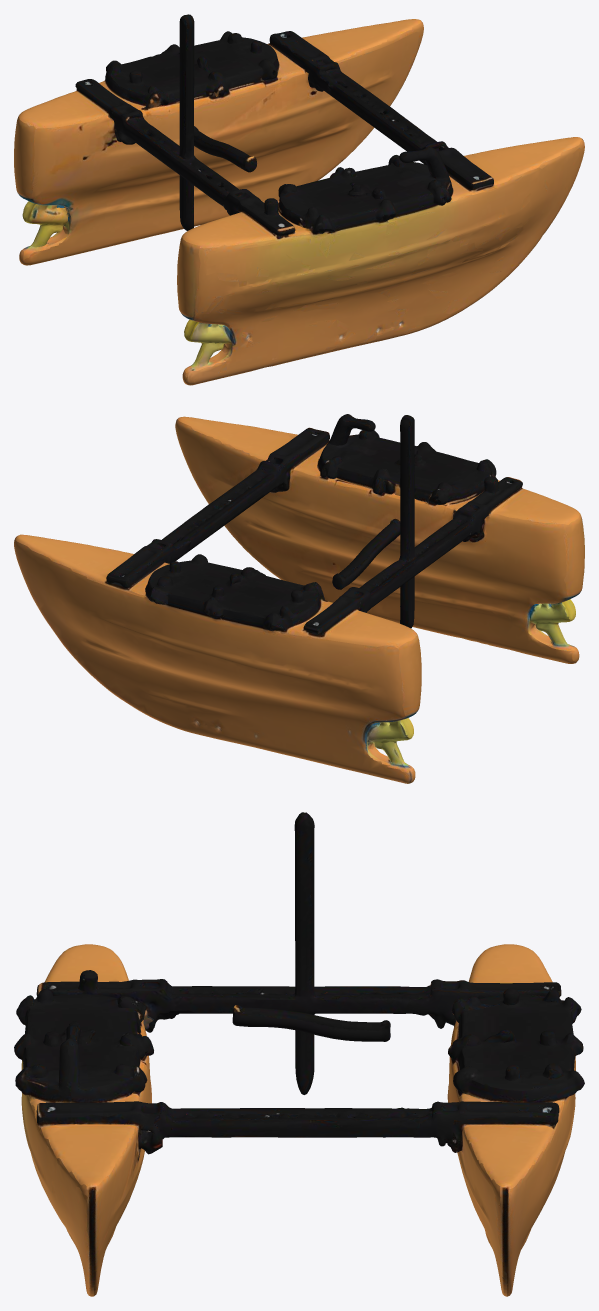
File: poseidonsmalloutput.glb
3 views of the same model, one above another, from view 1: azimuth 30°, elevation 25°; view 2: azimuth 150°, elevation 25°; view 3: azimuth 270°, elevation 25° (orthographic). The views are drawn at different scales.
Visible parts, largest first — view 1: textured_mesh.obj; view 2: textured_mesh.obj; view 3: textured_mesh.obj.
Boxes of the visible parts, box(x1,y1,x2,y2) form: textured_mesh.obj: box(14, 14, 584, 385); textured_mesh.obj: box(14, 414, 584, 783); textured_mesh.obj: box(14, 812, 584, 1296).
Bounding box in the file's own units: 1.99 × 1.37 × 1.9.
Materials: 1 (1 with a texture image).
